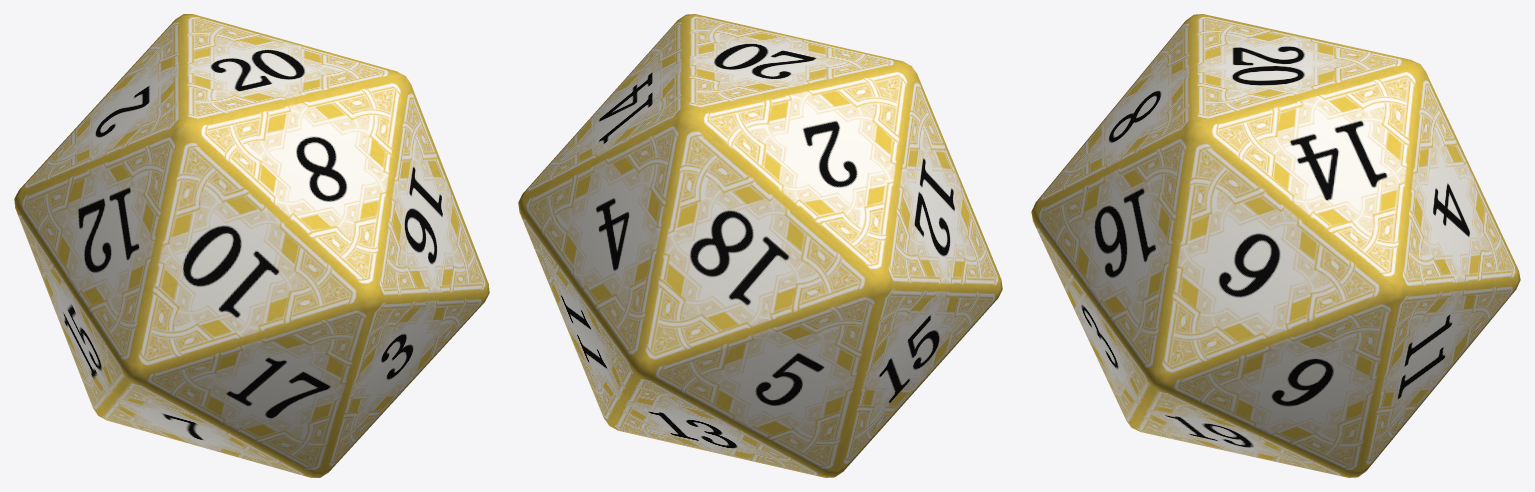
The model's file is test25scale.glb.
3 views of the same model, side by side, from view 1: azimuth 30°, elevation 25°; view 2: azimuth 150°, elevation 25°; view 3: azimuth 270°, elevation 25° (orthographic).
Visible parts, largest first — view 1: DiceLink; view 2: DiceLink; view 3: DiceLink.
Part boxes in pixels (left/top/right/bottom): DiceLink: left=14, top=14, right=489, bottom=477; DiceLink: left=518, top=14, right=1002, bottom=477; DiceLink: left=1031, top=14, right=1520, bottom=477.
Size of the model in its own units: 0.5879 by 0.5645 by 0.6731.
2 materials, 1 textured.
